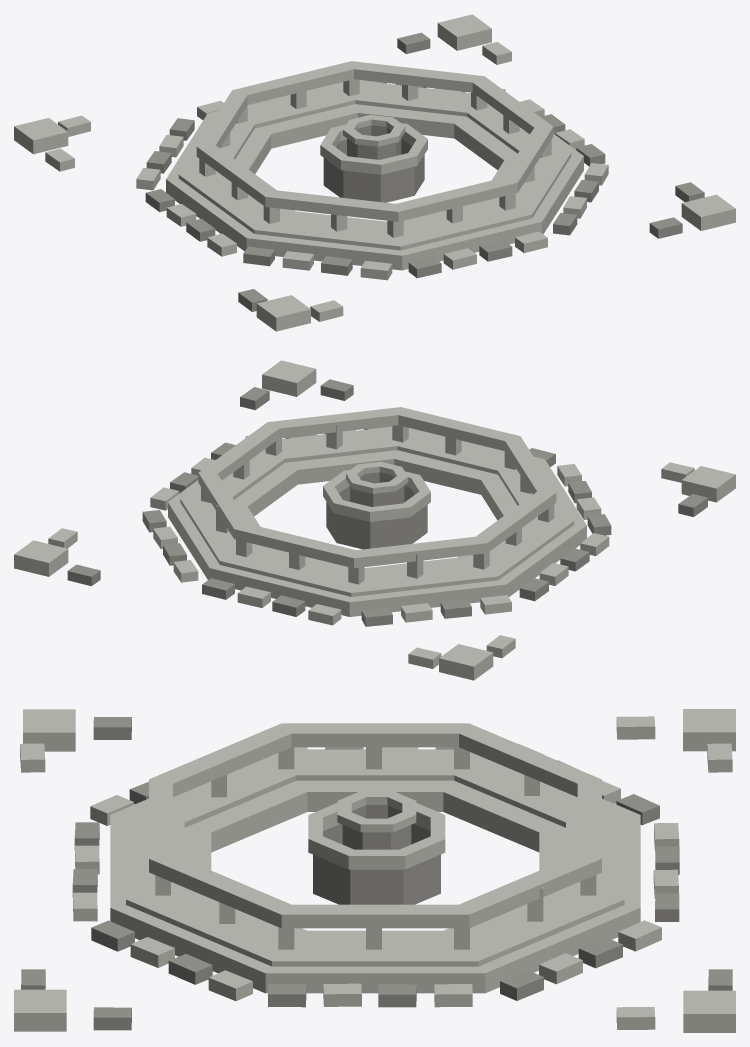
The model's file is largefountain.fbx.
3 views of the same model, one above another, from view 1: azimuth 30°, elevation 25°; view 2: azimuth 150°, elevation 25°; view 3: azimuth 270°, elevation 25° (orthographic). The views are drawn at different scales.
Parts seen in each view (by area): view 1: polySurface331; view 2: polySurface331; view 3: polySurface331.
Boxes of the visible parts, x1=… form: polySurface331: x1=14, y1=14, x2=735, y2=331; polySurface331: x1=14, y1=360, x2=735, y2=680; polySurface331: x1=14, y1=709, x2=735, y2=1032.
Bounding box in the file's own units: 203 × 23.2 × 203.
1 material, 1 textured.
